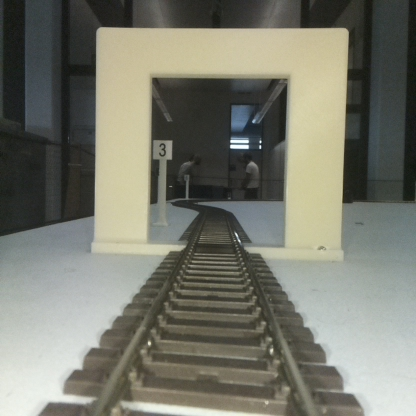white-info-3: (153, 140, 172, 223)
